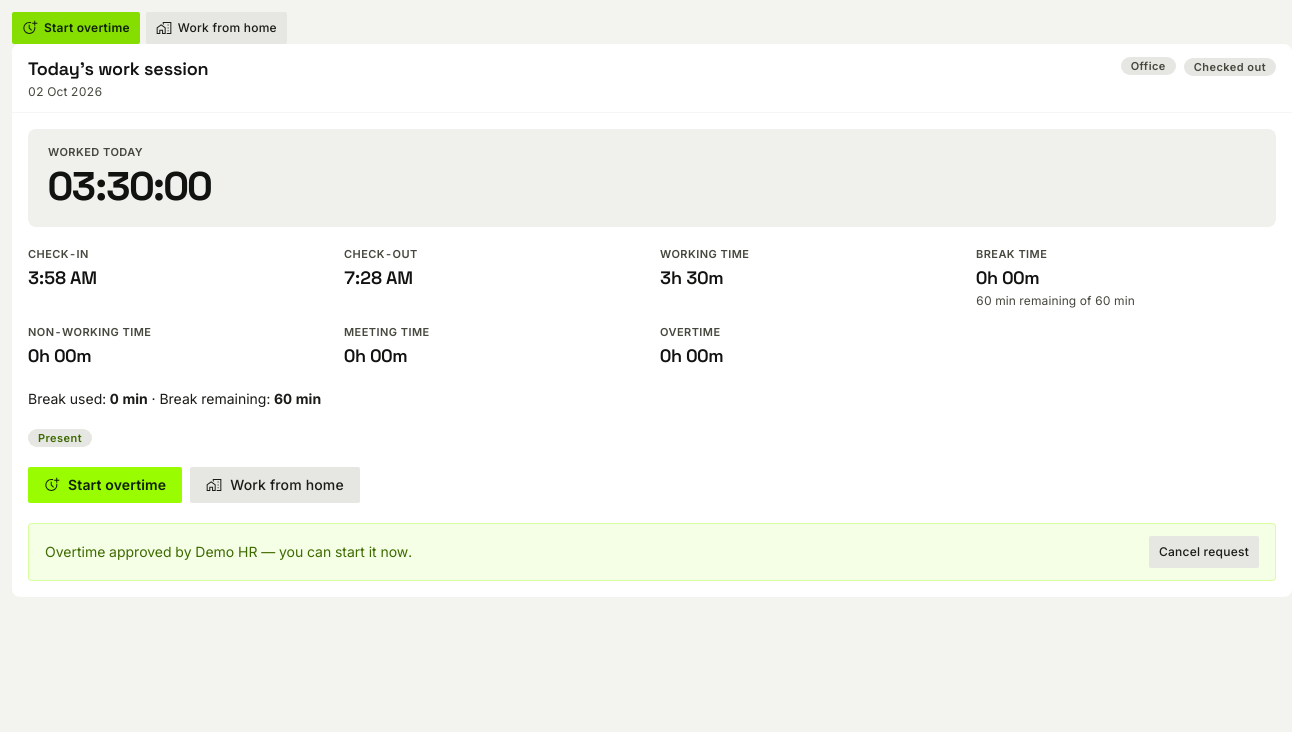
Test: WorkSessionCard › starts an approved overtime and shows the overtime timer
Expected: the text "Overtime approved by Demo HR — you can start it now." is shown, [45,542,412,562]
Click the button "Start overtime" below "Present". click: (105, 485)
box: [28,467,182,503]
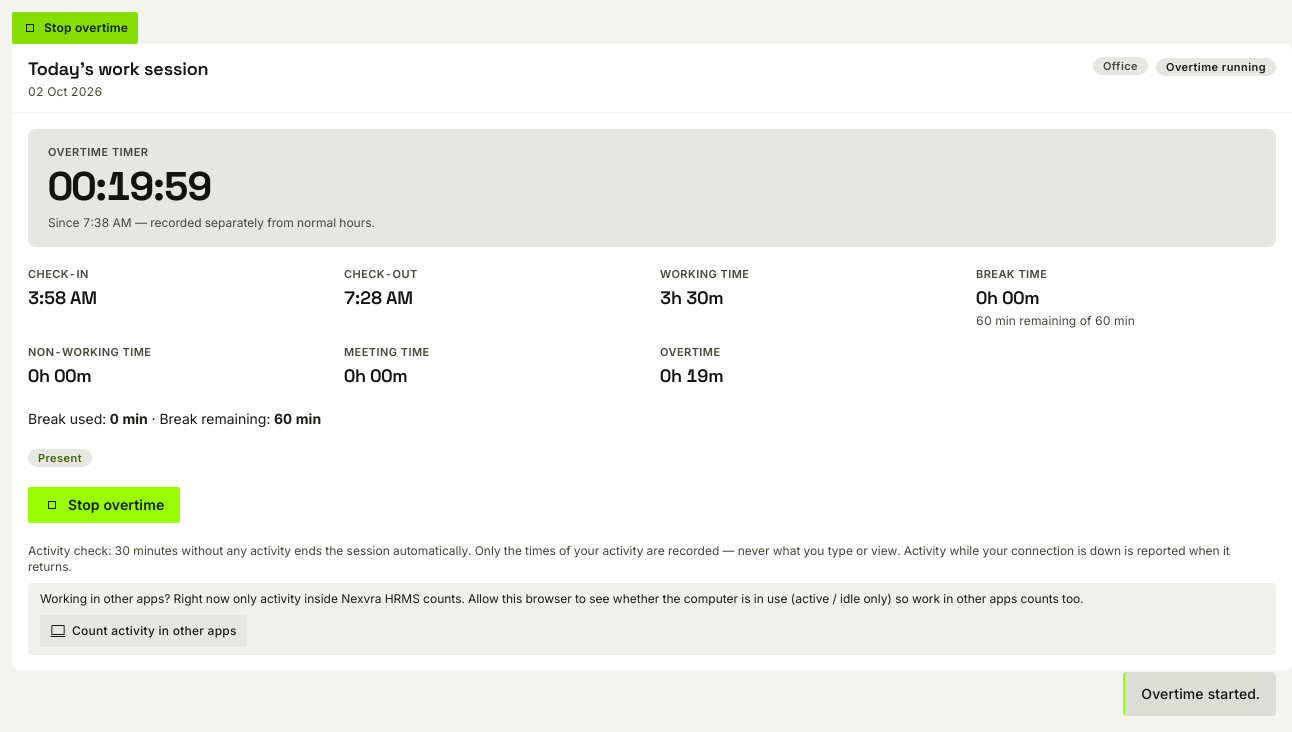
Expected: the text "Overtime running" is shown, [1156,58,1276,76]
Expected: the text named "Overtime timer" reads "00:19:59", [48,161,211,212]
Expected: the button "Stop overtime" below "Present" is shown, [28,487,180,523]
